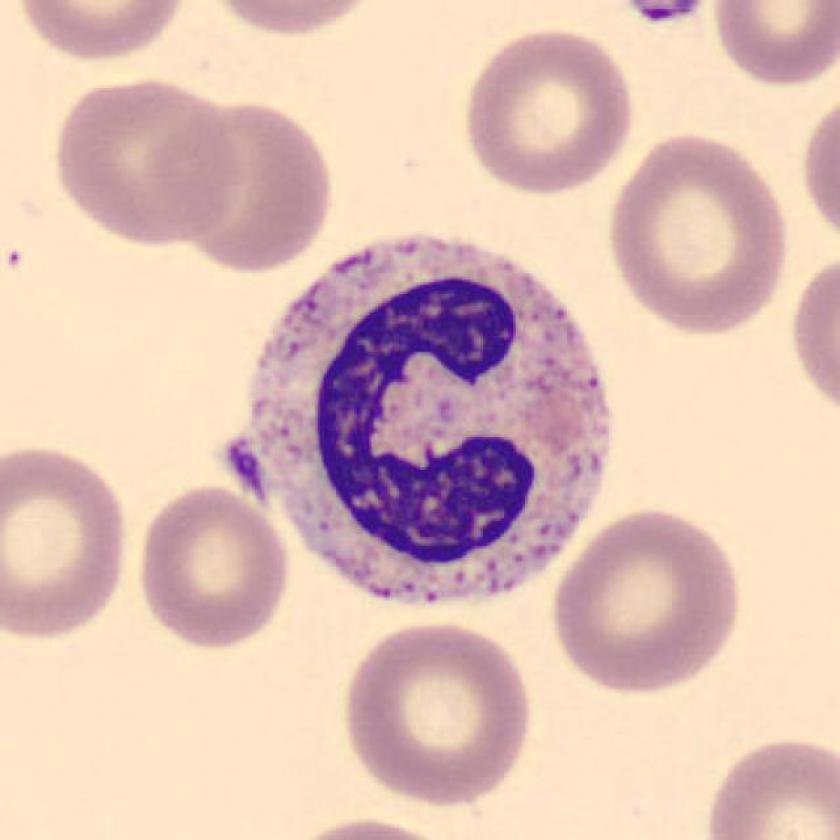neutrophil: (248, 236, 613, 602)
